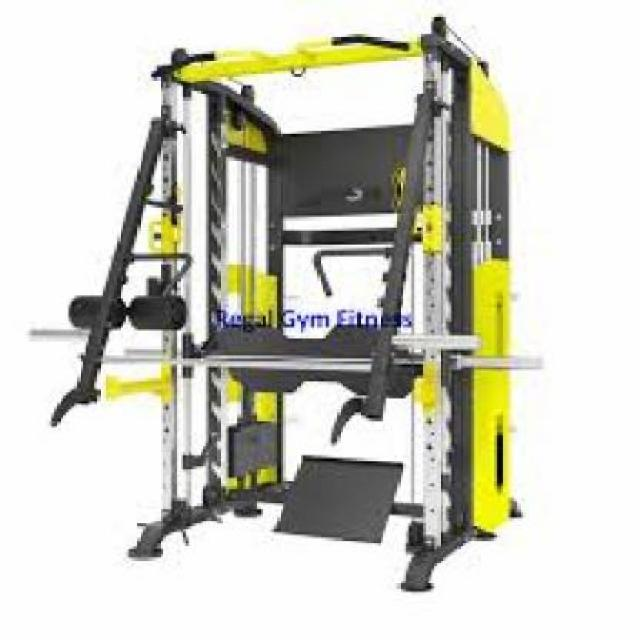smith machine: (51, 14, 544, 592)
